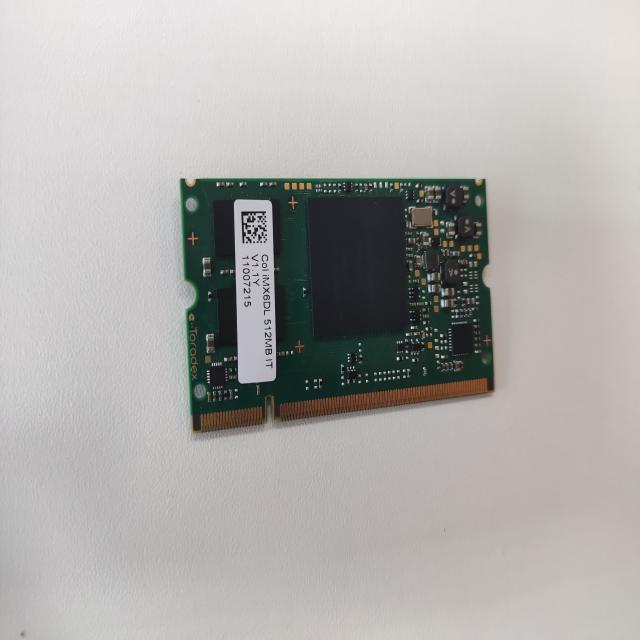som: (161, 156, 516, 445)
